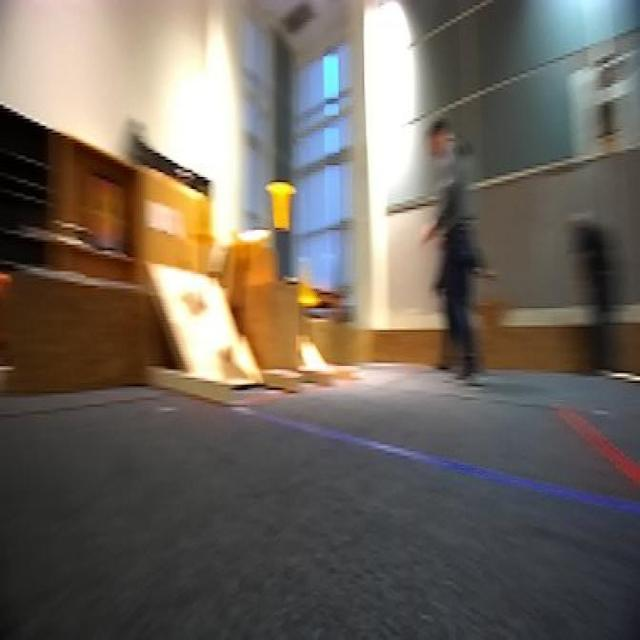frc_cone: (226, 228, 268, 279), (184, 187, 216, 252), (267, 174, 294, 232), (296, 259, 322, 313)
